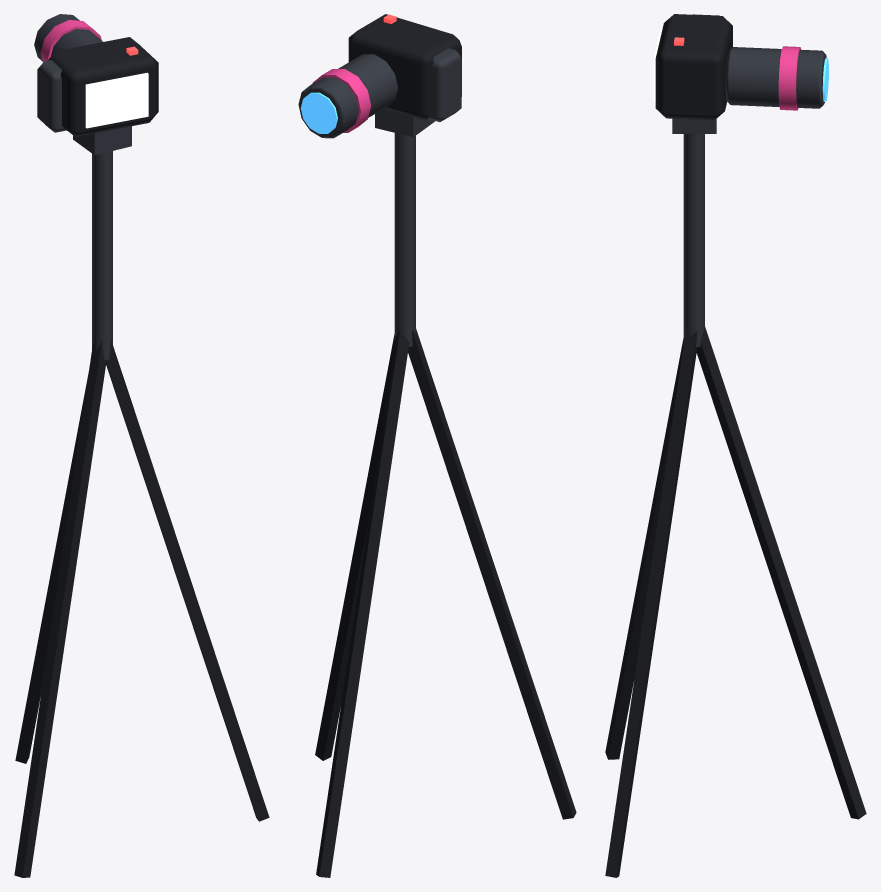
File: station_buffer_ausstattung_1_1.glb
The picture shows the model from 3 angles, left to right: view 1: azimuth 30°, elevation 25°; view 2: azimuth 150°, elevation 25°; view 3: azimuth 270°, elevation 25°; orthographic projection. The views are drawn at different scales.
Parts seen in each view (by area): view 1: station_buffer_ausstattung_1_1; view 2: station_buffer_ausstattung_1_1; view 3: station_buffer_ausstattung_1_1.
Part boxes in pixels (x1=…): station_buffer_ausstattung_1_1: x1=14, y1=14, x2=269, y2=877; station_buffer_ausstattung_1_1: x1=298, y1=14, x2=576, y2=877; station_buffer_ausstattung_1_1: x1=605, y1=14, x2=866, y2=877.
Size of the model in its own units: 0.4724 by 1.38 by 0.4135.
